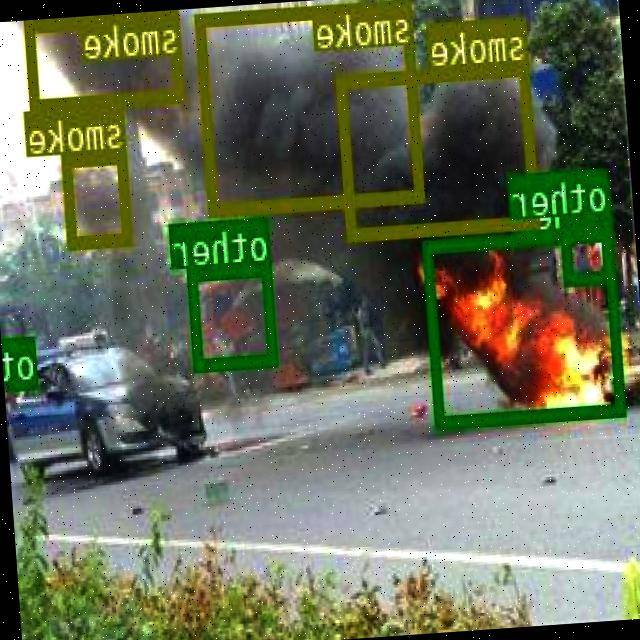smoke: (196, 0, 427, 213), (339, 59, 541, 238), (27, 9, 186, 111), (64, 148, 134, 245)
